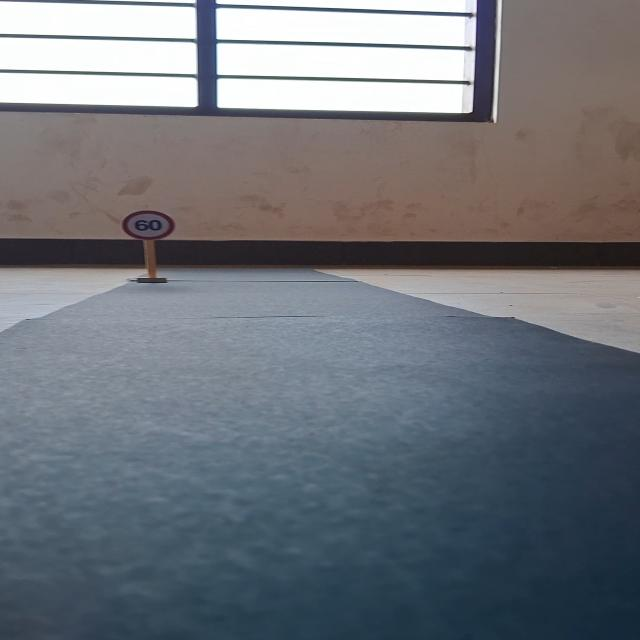Speed60: (119, 210, 179, 241)
